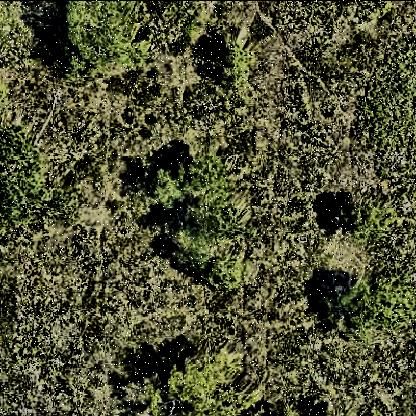tree-top: (54, 2, 158, 76), (140, 355, 261, 416), (154, 154, 235, 237), (313, 277, 377, 341), (173, 239, 239, 294), (209, 42, 256, 95), (341, 203, 394, 247)
